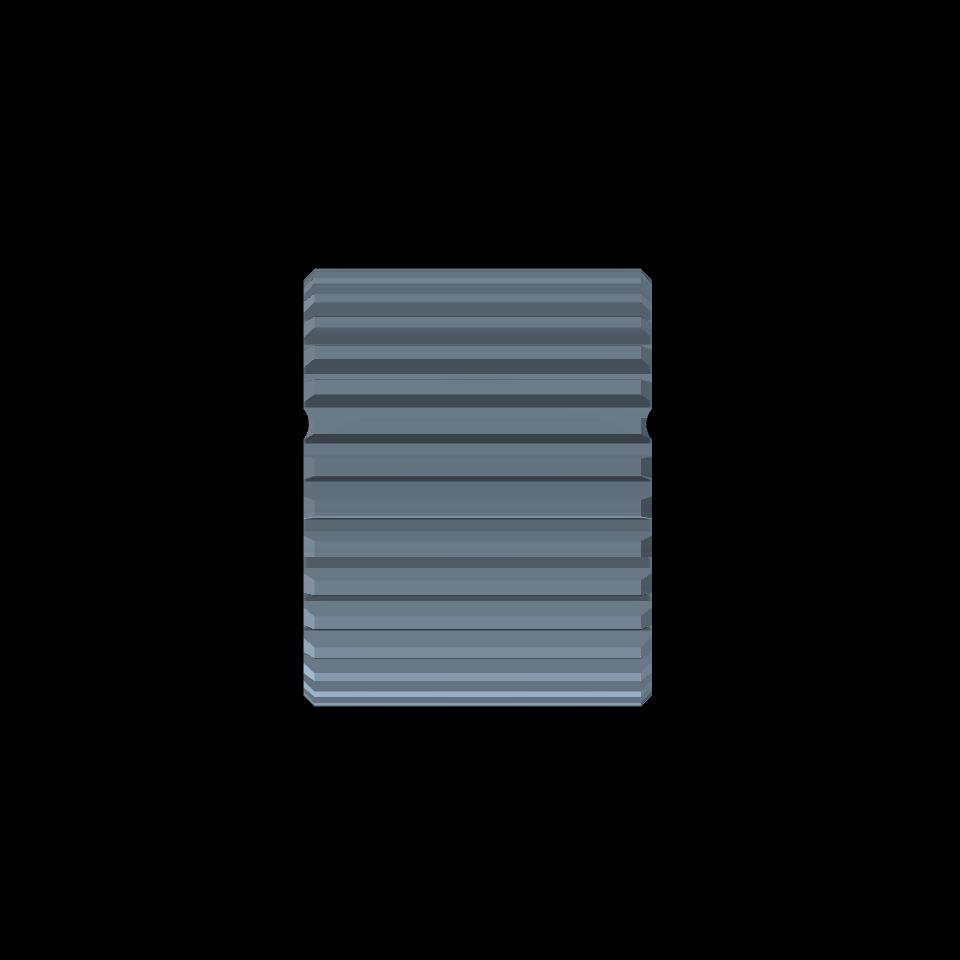Straight: (314, 269, 640, 706)
